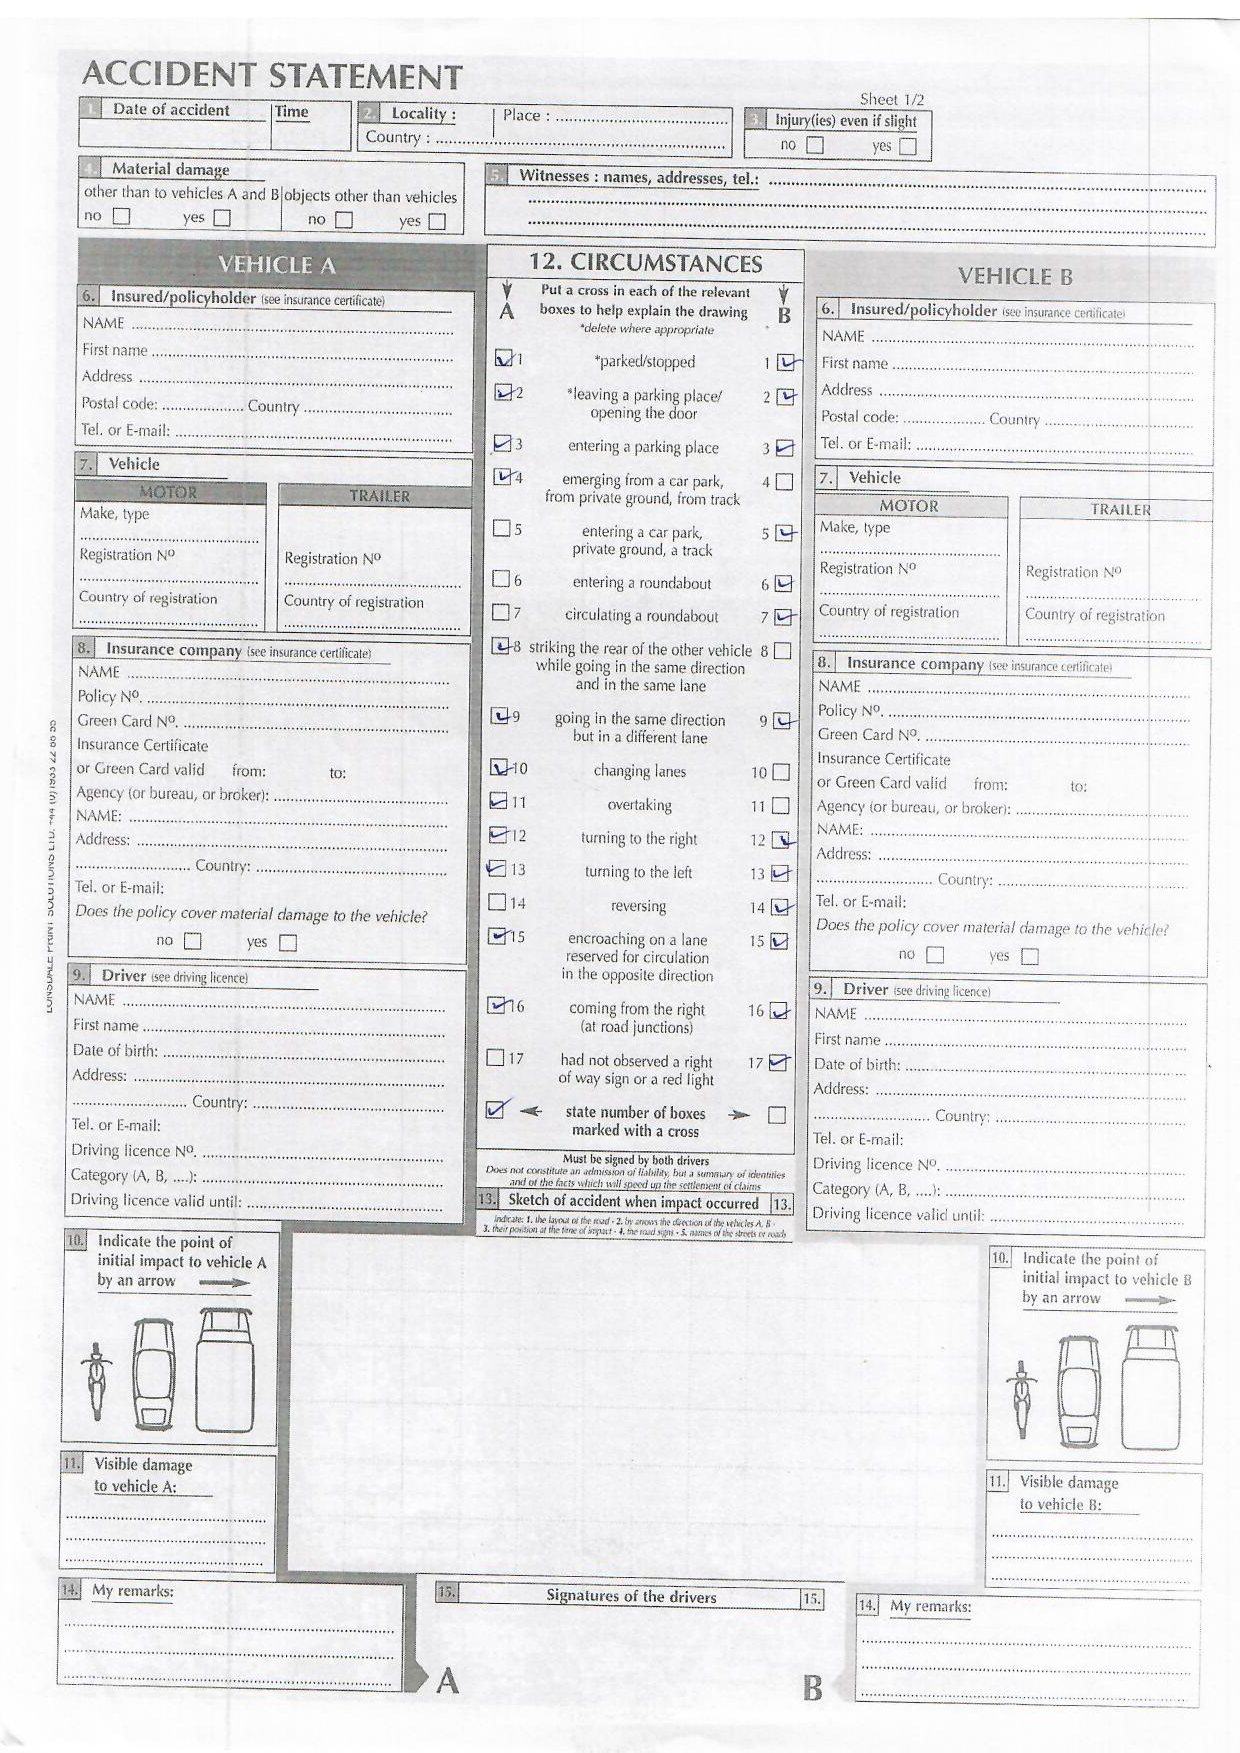a: (765, 996, 793, 1027), (490, 345, 519, 372), (764, 1050, 793, 1076), (484, 754, 513, 781), (486, 632, 514, 659), (769, 570, 798, 596), (483, 821, 513, 847), (772, 348, 798, 374), (484, 787, 511, 813), (773, 521, 798, 548), (483, 991, 509, 1017), (483, 922, 509, 949), (772, 434, 796, 462), (773, 384, 798, 409), (769, 707, 794, 733), (483, 856, 509, 882), (487, 703, 513, 729), (490, 430, 514, 456), (766, 897, 793, 921), (491, 380, 517, 404), (766, 828, 792, 852), (766, 862, 792, 886), (490, 464, 514, 489)
